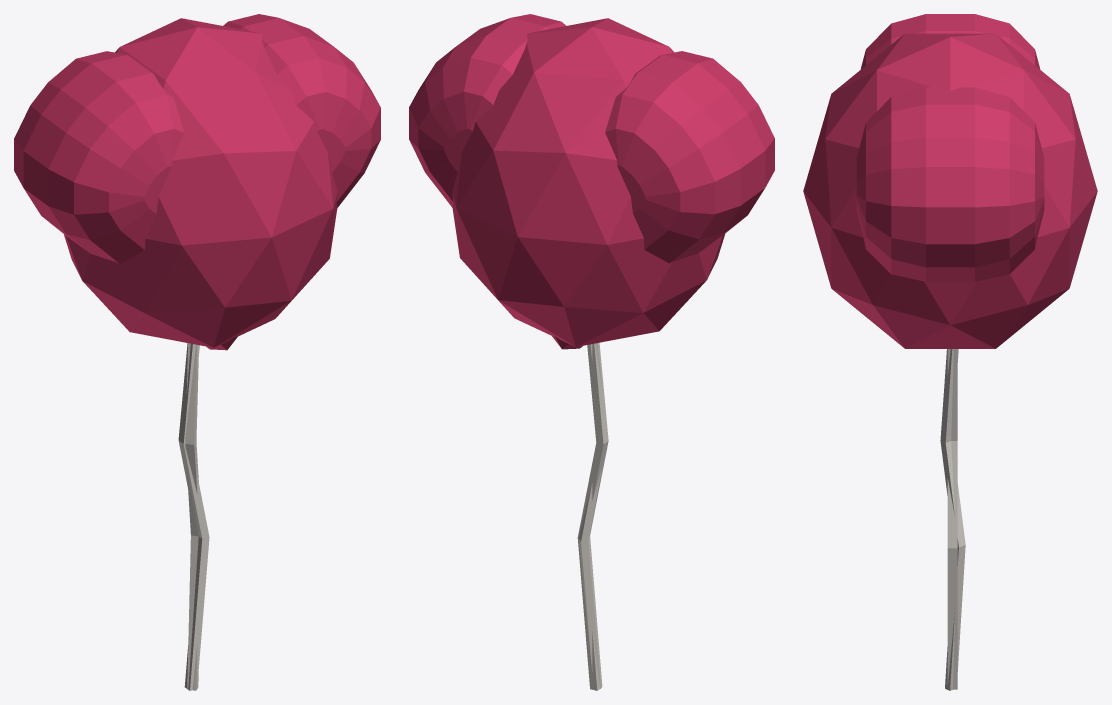
File: balloon.fbx
3 renders of one model, left to right at view 1: azimuth 30°, elevation 25°; view 2: azimuth 150°, elevation 25°; view 3: azimuth 270°, elevation 25°, orthographic.
Visible parts, largest first — view 1: balloon, balloon4; view 2: balloon, balloon4; view 3: balloon, balloon4.
Part boxes in pixels (x1=…): balloon: x1=64, y1=18, x2=337, y2=690; balloon4: x1=14, y1=14, x2=380, y2=690; balloon: x1=452, y1=18, x2=724, y2=690; balloon4: x1=409, y1=14, x2=774, y2=688; balloon: x1=803, y1=33, x2=1097, y2=689; balloon4: x1=856, y1=14, x2=1044, y2=690.
Bounding box in the file's own units: 116 × 226 × 92.19.
